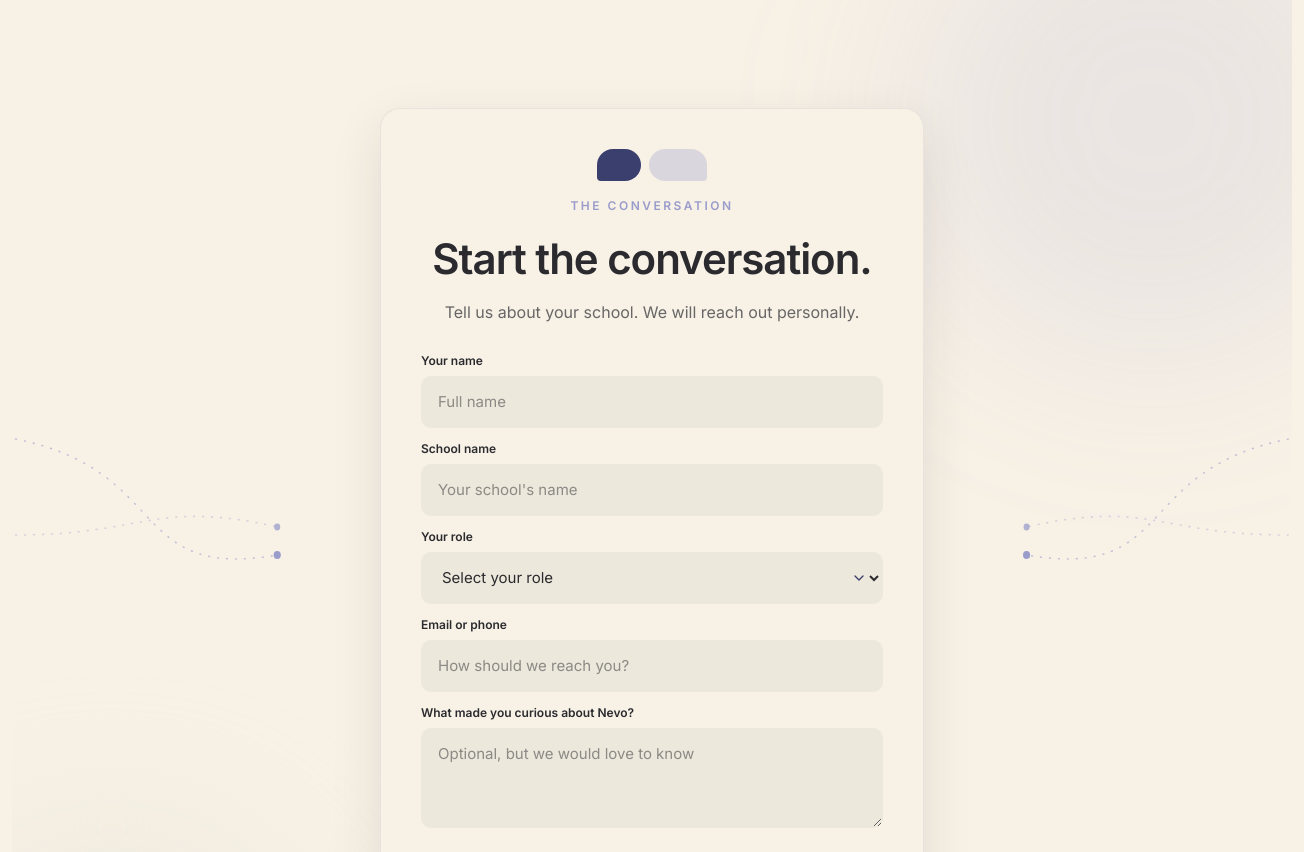
Scenario: an inquiry that does not send › says so, keeps what was typed, and promises nothing
This screenshot has width=1304, height=852.
Type "Ada Okoro" into the field with placeholder "Full name" at (652, 402), box [421,376,883,428]
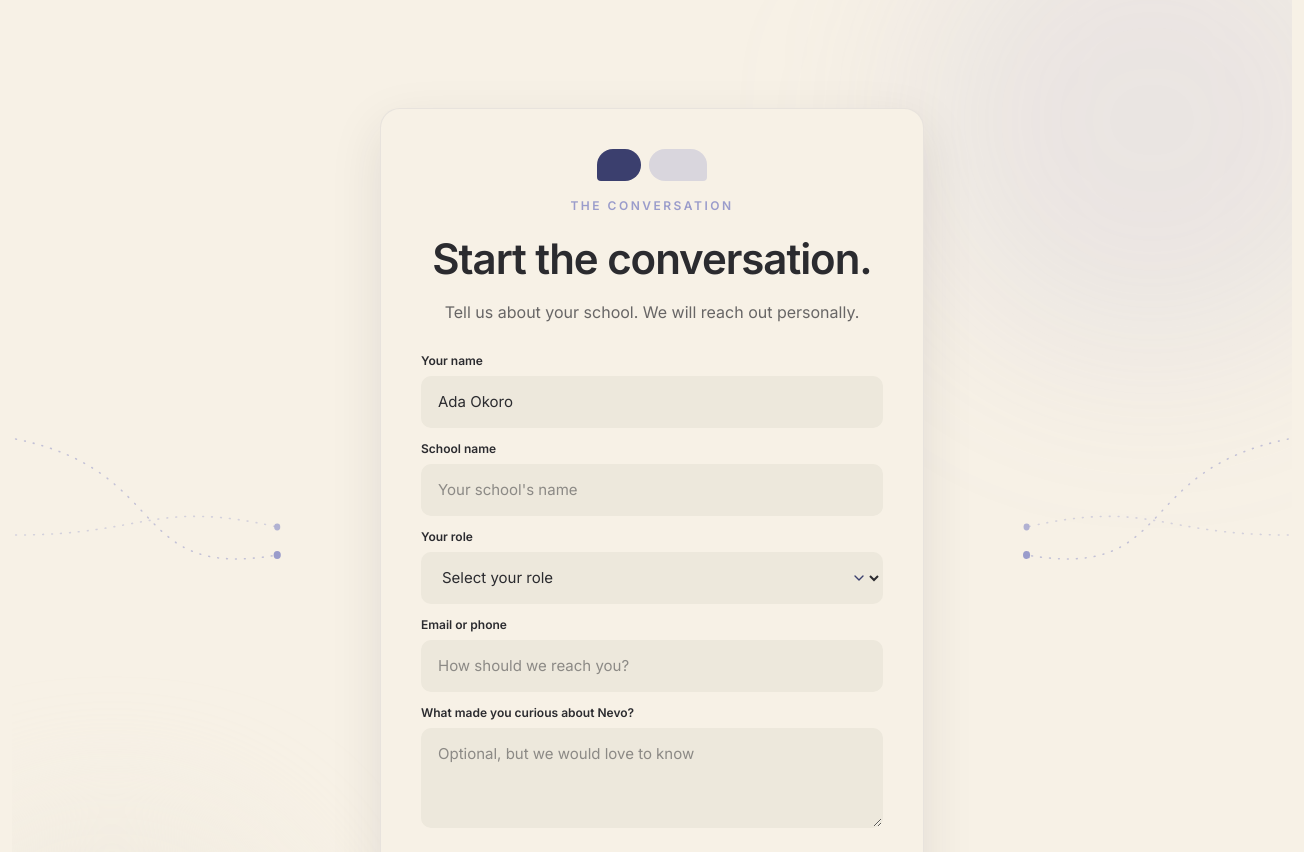
Type "Greenfield College" into the field with placeholder "Your school's name" at (652, 490), box [421,464,883,516]
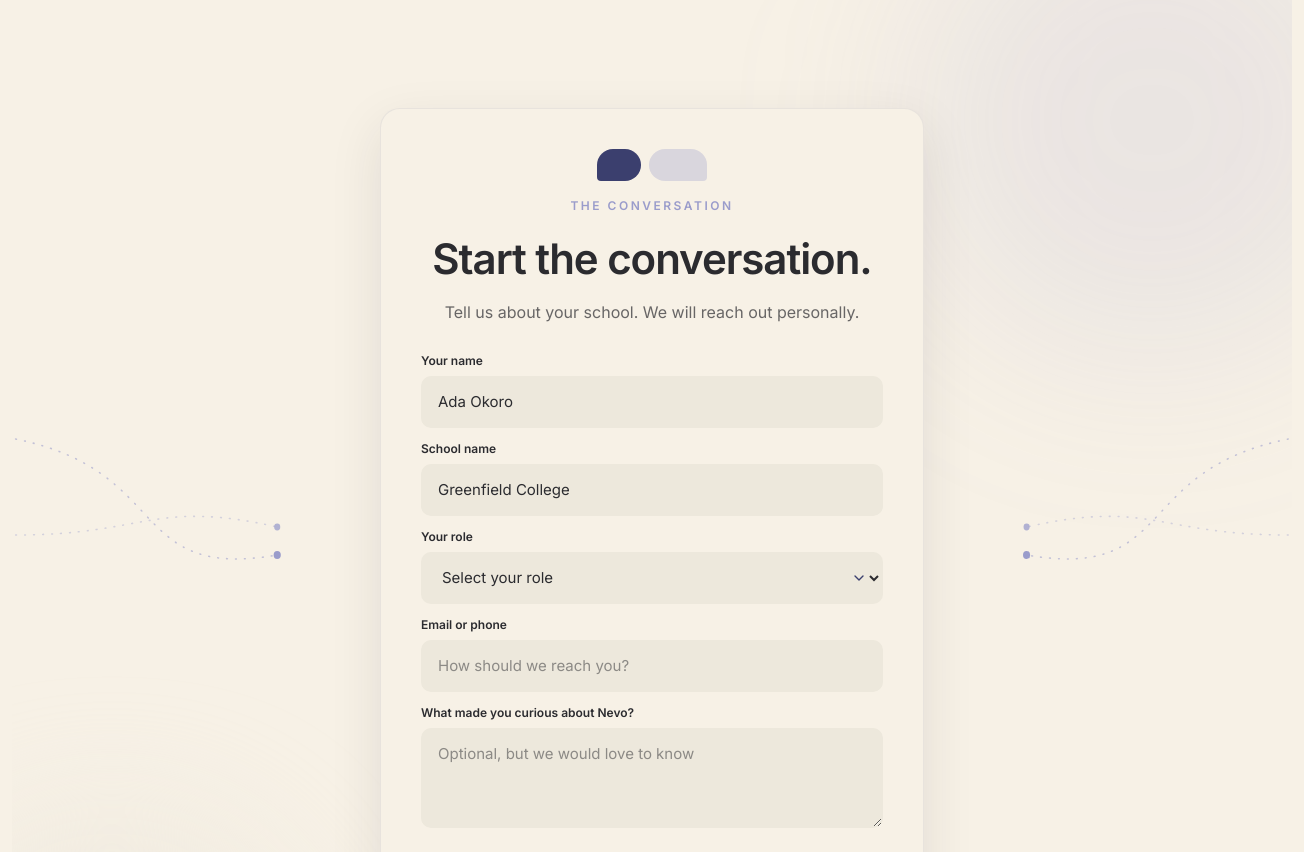
Type "ada@greenfield.edu.ng" into the field with placeholder "How should we reach you?" at (652, 666), box [421,640,883,692]
(page scrolled)
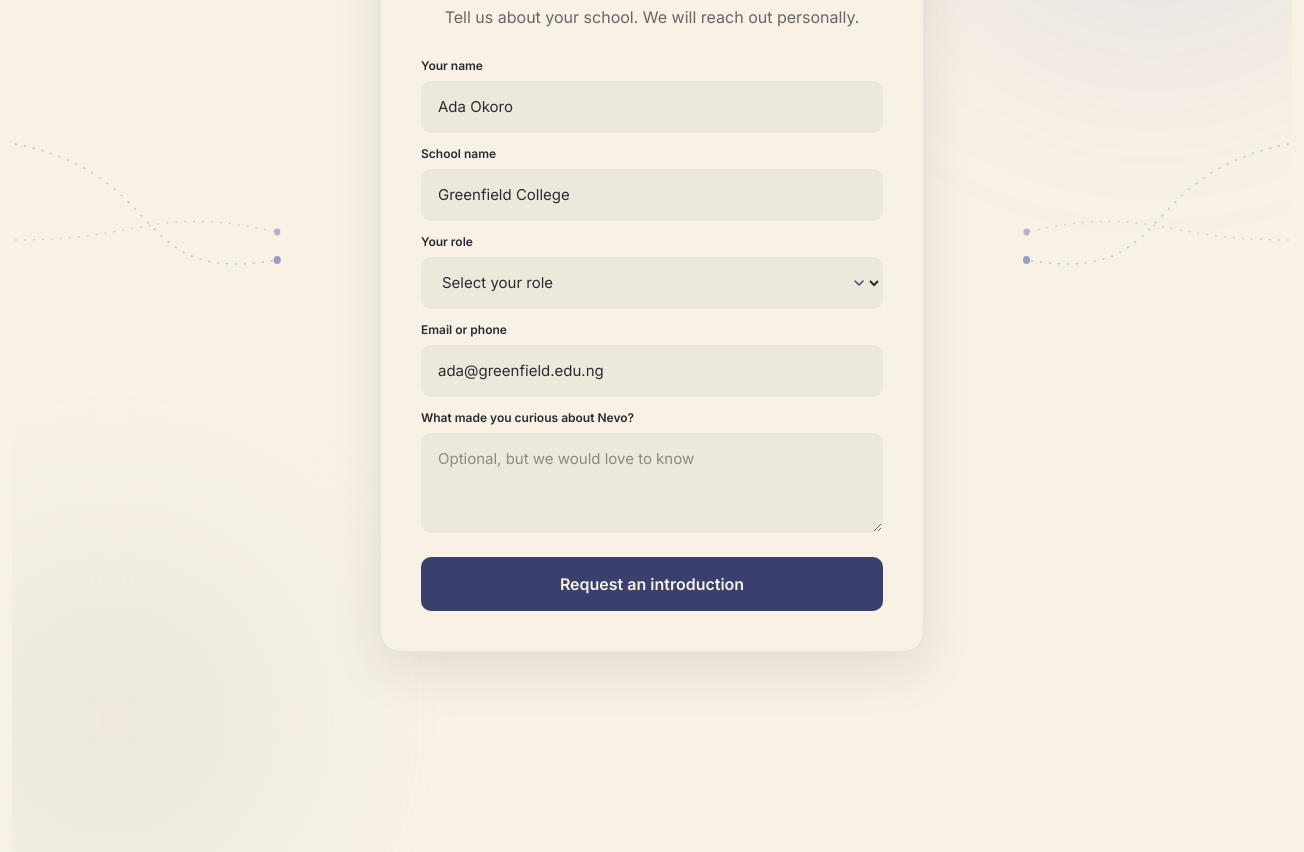
Click the button "Request an introduction" at (652, 584), box [421,557,883,611]
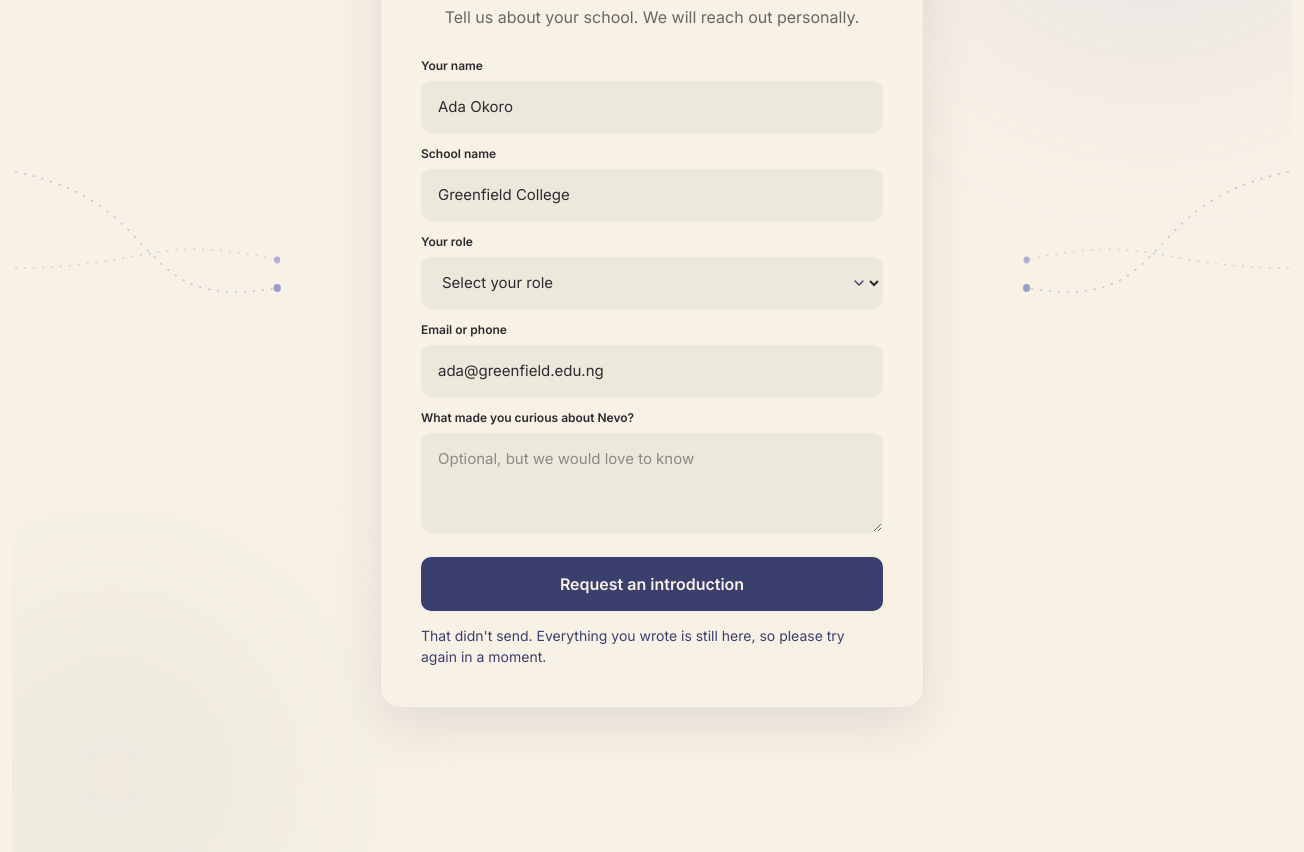
Result: the message shows "didn't send" at [421,627,845,665]
